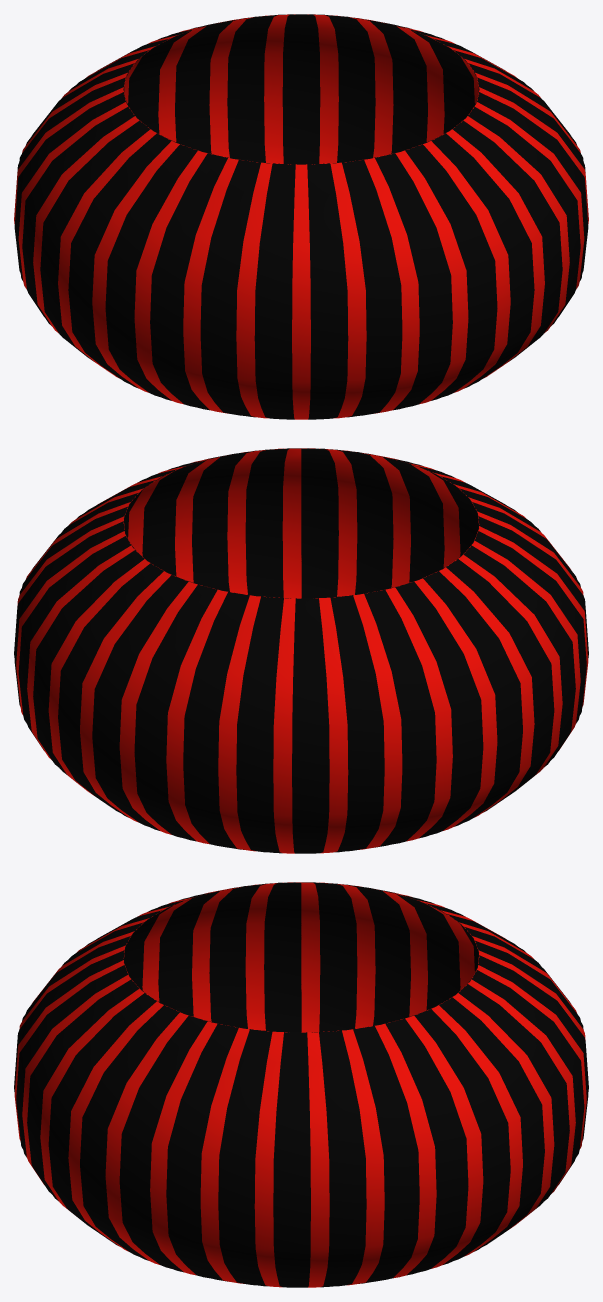
The model's file is p_mesh_plasmadrill_diameter_glow01_pose2.fbx.
3 renders of one model, top to bottom at view 1: azimuth 30°, elevation 25°; view 2: azimuth 150°, elevation 25°; view 3: azimuth 270°, elevation 25°, orthographic.
Parts seen in each view (by area): view 1: plasmadrill_diameter_glow01_pose2; view 2: plasmadrill_diameter_glow01_pose2; view 3: plasmadrill_diameter_glow01_pose2.
Part boxes in pixels (x1,y1,x2,y2): plasmadrill_diameter_glow01_pose2: (14,14,588,419); plasmadrill_diameter_glow01_pose2: (14,448,588,853); plasmadrill_diameter_glow01_pose2: (14,882,588,1287).
Bounding box in the file's own units: 30.25 × 15.05 × 30.25.
3 materials, 2 textured.
